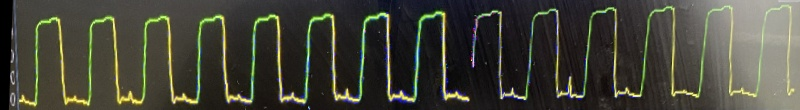hydrop_pressure: (8, 0, 800, 110)
